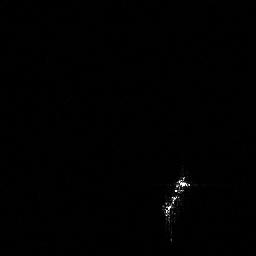ship: (157, 172, 192, 234)
